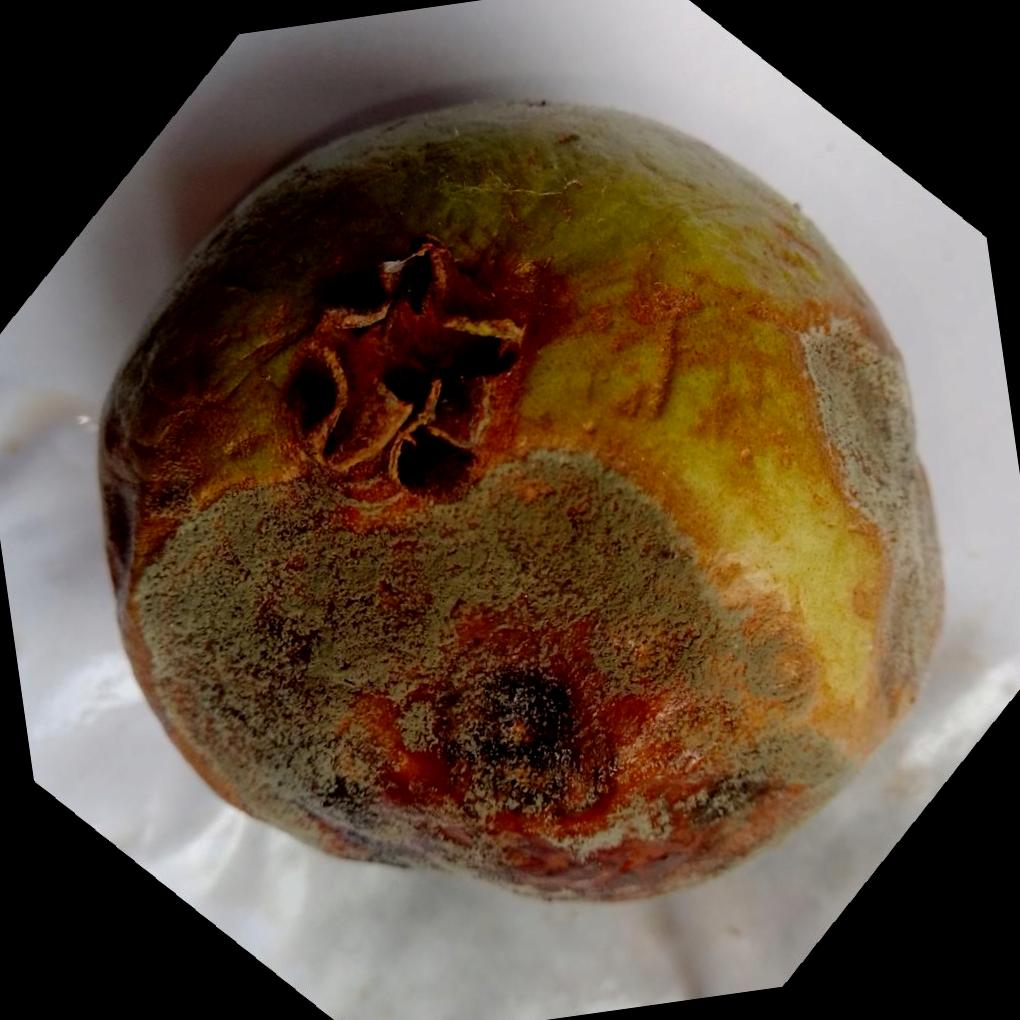FreshOrange: (94, 88, 947, 902)
